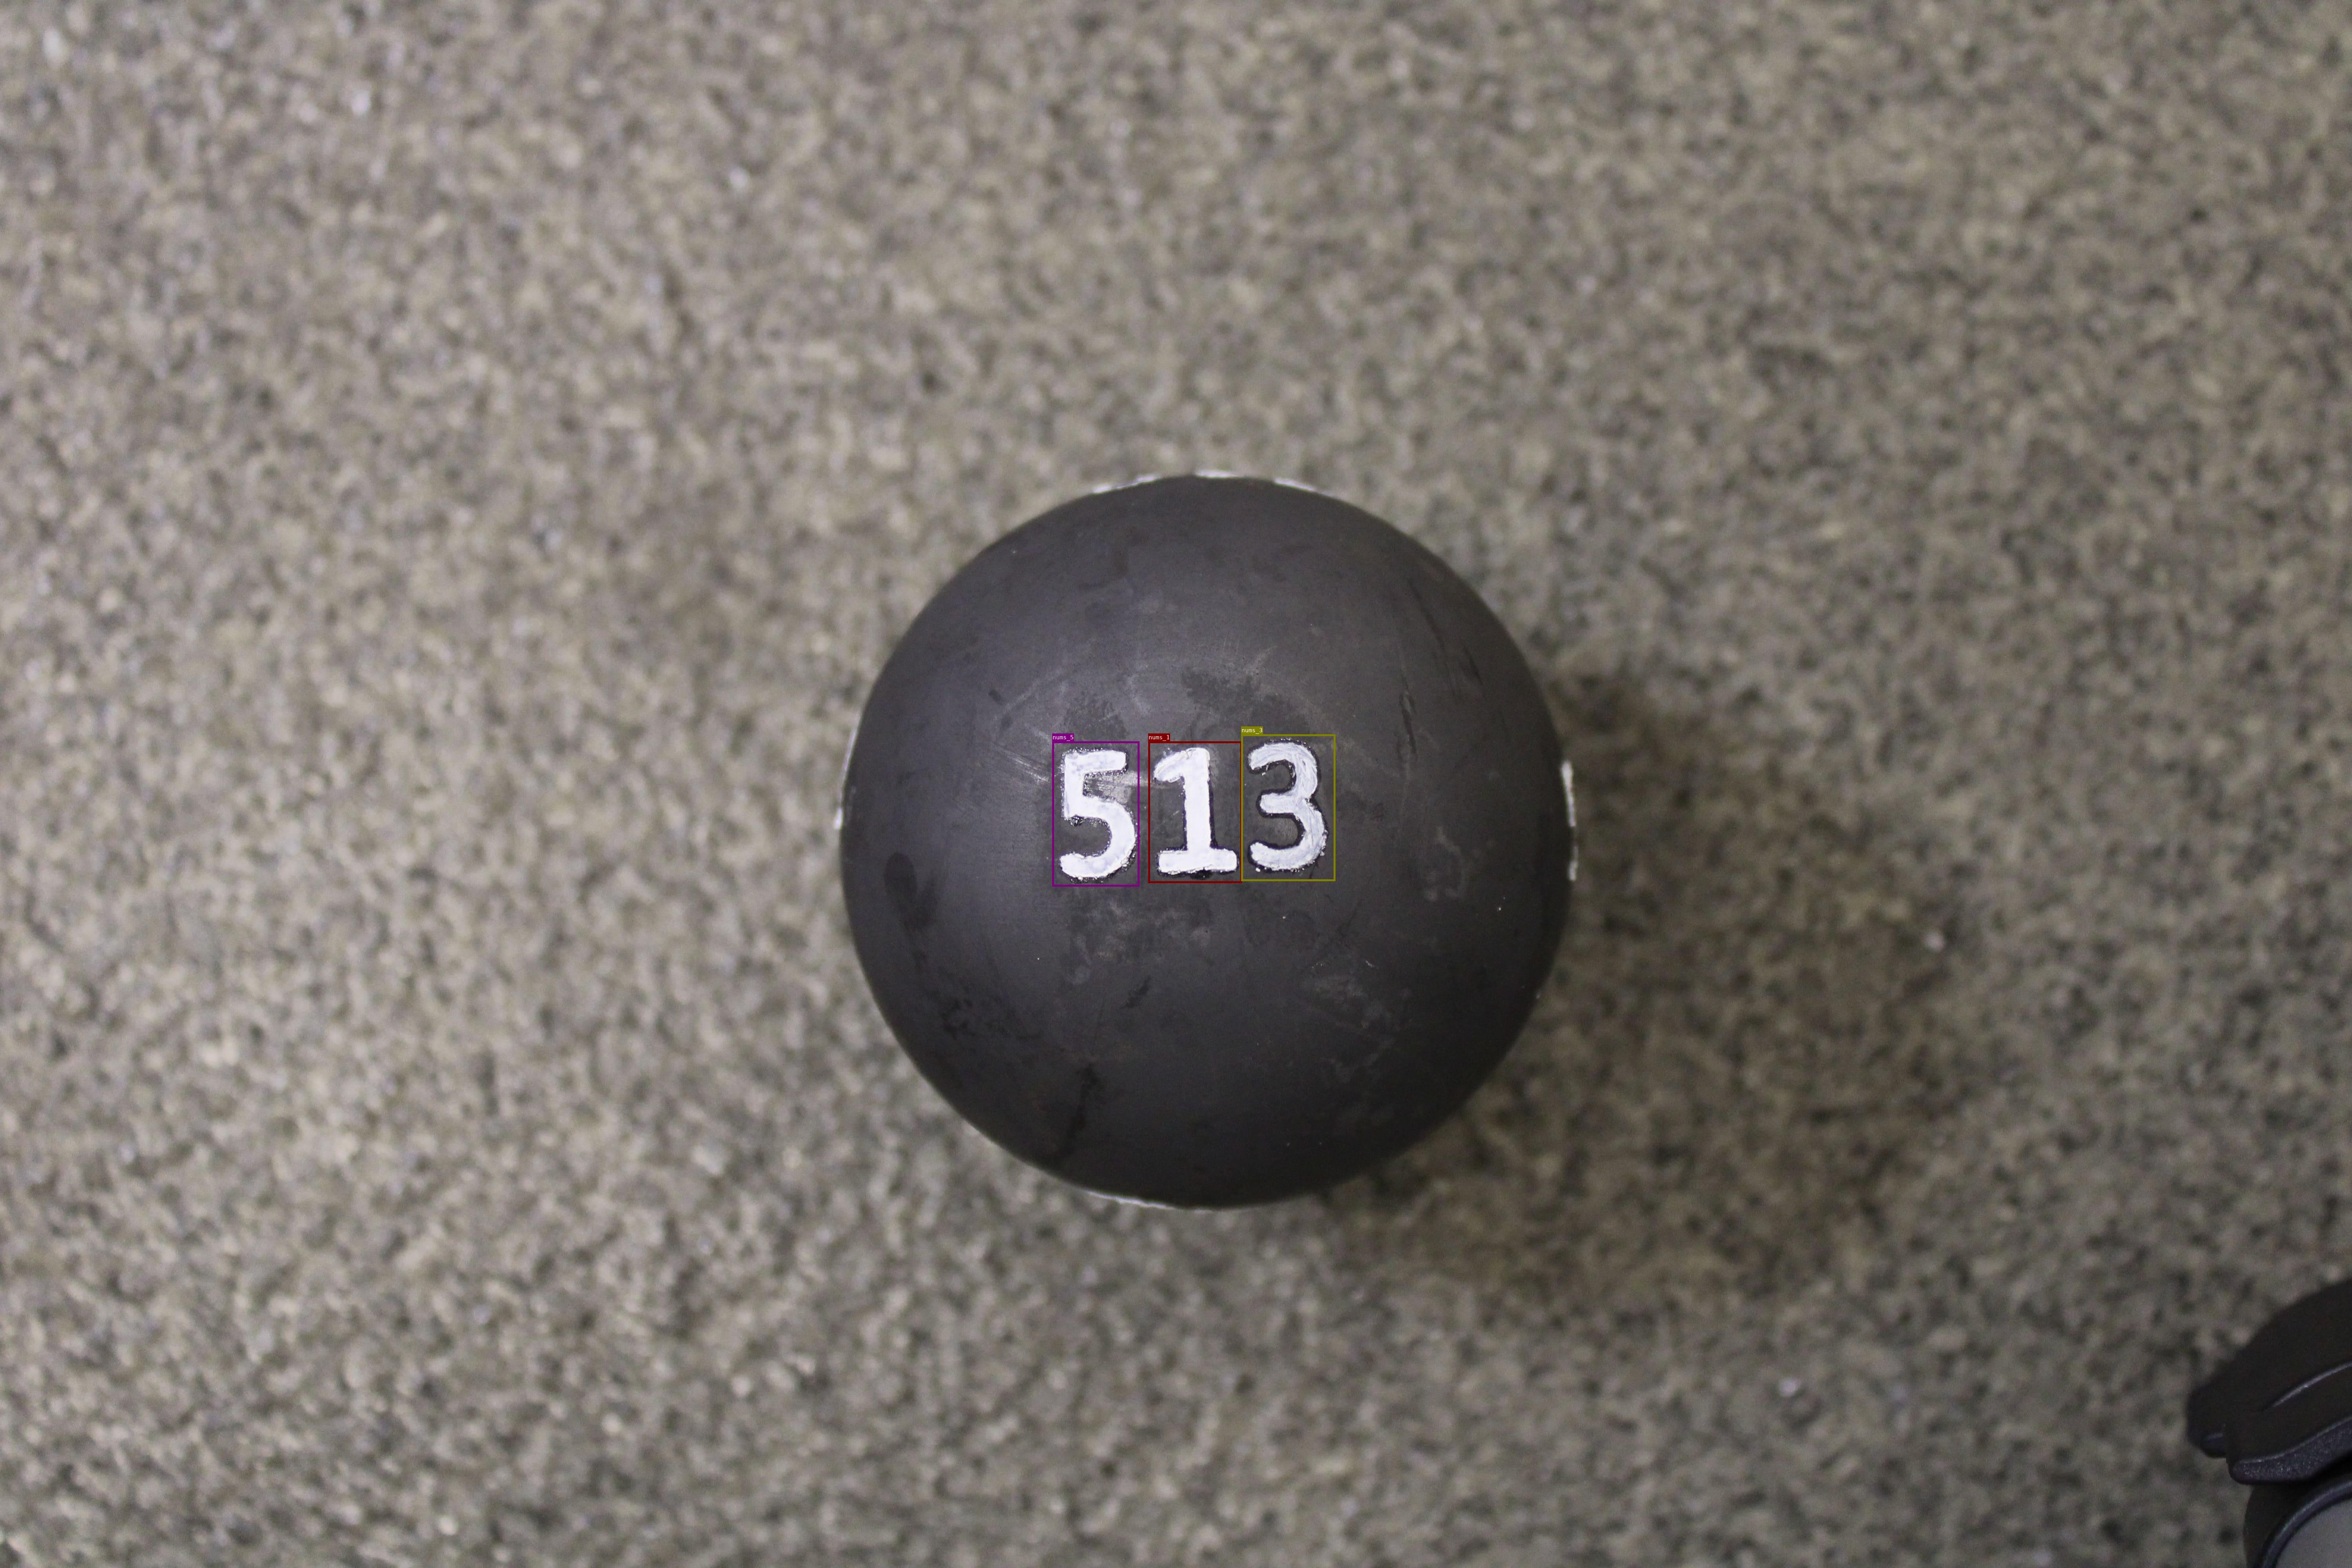nums_1: (1148, 742, 1243, 882)
nums_3: (1241, 735, 1335, 880)
nums_5: (1052, 742, 1139, 886)
